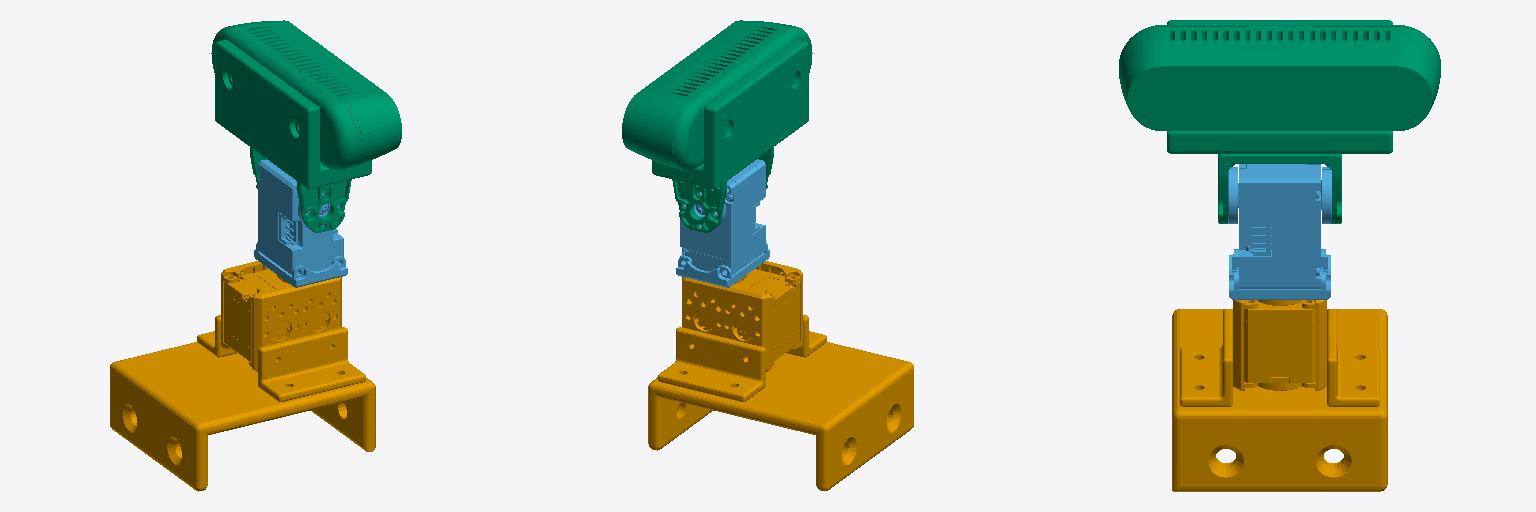
URDF robot description (openarm_d435i_head):
<?xml version="1.0"?>
<!--
  openarm D435i pan/tilt head — ARTICULATED (2-DOF).
  Everything except the two motor axes is merged into rigid links:
    base_link   : neck1 + neck2_r x2 + fpx330-s101 x2 + xc330#1 housing  (mounts to arm)
    mid_link    : fpx330-s102 + xc330#2 housing        (rotated by PAN motor,  XC330 #1)
    camera_link : fpx330-h101 + camera_fix + D435i      (rotated by TILT motor, XC330 #2)

  Meshes are baked in each LINK-LOCAL frame, in millimeters -> scale 0.001 -> meters,
  so every <visual>/<collision> origin is identity. Inertials are at each link COM
  (from Fusion, hollow-shell real geometry). Visual = OBJ, Collision = STL.

  Kinematics (from Fusion joints):
    joint_pan  : base_link  -> mid_link   , axis Z (-Z in Fusion), at (22.5, 0, 38.5) mm in base frame
    joint_tilt : mid_link   -> camera_link, axis Y,               at (0, -14.5, 27.5) mm in mid  frame

  NOTE: joint limits / effort / velocity below are PLACEHOLDERS (Fusion had none).
        Edit to your XC330 config + mechanical range. Units: rad, N*m, rad/s.
-->
<robot name="openarm_d435i_head">

  <!-- ================= base_link (root, attaches to the arm) ================= -->
  <link name="base_link">
    <inertial>
      <origin xyz="0.003423 -0.000003 0.003366" rpy="0 0 0"/>
      <mass value="0.109629"/>
      <inertia ixx="4.381646e-05" ixy="0" ixz="0"
                                  iyy="7.657038e-05" iyz="0"
                                                     izz="8.818679e-05"/>
    </inertial>
    <visual>
      <origin xyz="0 0 0" rpy="0 0 0"/>
      <geometry><mesh filename="../meshes/visual/head_base.obj" scale="0.001 0.001 0.001"/></geometry>
    </visual>
    <collision>
      <origin xyz="0 0 0" rpy="0 0 0"/>
      <geometry><mesh filename="../meshes/collision/head_base.stl" scale="0.001 0.001 0.001"/></geometry>
    </collision>
  </link>

  <!-- ================= PAN motor (XC330 #1), base -> mid ================= -->
  <joint name="joint_pan" type="revolute">
    <parent link="base_link"/>
    <child  link="mid_link"/>
    <origin xyz="0.0225 0 0.0385" rpy="0 0 0"/>
    <axis xyz="0 0 -1"/>
    <limit lower="-1.5708" upper="1.5708" effort="1.0" velocity="6.0"/>
    <dynamics damping="0.02" friction="0.0"/>
  </joint>

  <!-- ================= mid_link ================= -->
  <link name="mid_link">
    <inertial>
      <origin xyz="-0.000004 0.000202 0.019222" rpy="0 0 0"/>
      <mass value="0.017073"/>
      <inertia ixx="2.817369e-06" ixy="0" ixz="0"
                                  iyy="2.429180e-06" iyz="0"
                                                     izz="1.447213e-06"/>
    </inertial>
    <visual>
      <origin xyz="0 0 0" rpy="0 0 0"/>
      <geometry><mesh filename="../meshes/visual/head_mid.obj" scale="0.001 0.001 0.001"/></geometry>
    </visual>
    <collision>
      <origin xyz="0 0 0" rpy="0 0 0"/>
      <geometry><mesh filename="../meshes/collision/head_mid.stl" scale="0.001 0.001 0.001"/></geometry>
    </collision>
  </link>

  <!-- ================= TILT motor (XC330 #2), mid -> camera ================= -->
  <joint name="joint_tilt" type="revolute">
    <parent link="mid_link"/>
    <child  link="camera_link"/>
    <origin xyz="0 -0.0145 0.0275" rpy="0 0 0"/>
    <axis xyz="0 1 0"/>
    <!-- tilt limit set in CAD (Fusion Revolute 10): +-90 deg -->
    <limit lower="-1.570796" upper="1.570796" effort="1.0" velocity="6.0"/>
    <dynamics damping="0.02" friction="0.0"/>
  </joint>

  <!-- ================= camera_link (fpx330-h101 + camera_fix + D435i) ================= -->
  <link name="camera_link">
    <inertial>
      <origin xyz="-0.000717 0.014670 0.032665" rpy="0 0 0"/>
      <mass value="0.065101"/>
      <inertia ixx="3.928919e-05" ixy="0" ixz="0"
                                  iyy="1.017067e-05" iyz="0"
                                                     izz="3.748699e-05"/>
    </inertial>
    <visual>
      <origin xyz="0 0 0" rpy="0 0 0"/>
      <geometry><mesh filename="../meshes/visual/head_camera.obj" scale="0.001 0.001 0.001"/></geometry>
    </visual>
    <collision>
      <origin xyz="0 0 0" rpy="0 0 0"/>
      <geometry><mesh filename="../meshes/collision/head_camera.stl" scale="0.001 0.001 0.001"/></geometry>
    </collision>
  </link>

</robot>

--- Render facts (derived) ---
Views: 3 orthographic renders of the robot side by side, from view 1: azimuth 30°, elevation 25°; view 2: azimuth 150°, elevation 25°; view 3: azimuth 270°, elevation 25°.
Model openarm_d435i_head with 3 links and 2 joints (2 revolute), rooted at base_link, posed every joint at zero.
Links seen in each view (by area): view 1: base_link, camera_link, mid_link; view 2: base_link, camera_link, mid_link; view 3: camera_link, base_link, mid_link.
Boxes of the visible links, box(x1,y1,x2,y2) form: base_link: box(110, 261, 375, 491); camera_link: box(211, 20, 401, 232); mid_link: box(254, 159, 347, 287); base_link: box(648, 261, 913, 490); camera_link: box(622, 20, 812, 232); mid_link: box(676, 159, 769, 287); camera_link: box(1119, 20, 1440, 223); base_link: box(1172, 254, 1387, 491); mid_link: box(1228, 164, 1331, 299).
Size in the robot's own frame: 0.0722 by 0.09 by 0.135 metres.
Meshes: 3 distinct files referenced, 3 mesh visuals loaded (3 OBJ).
